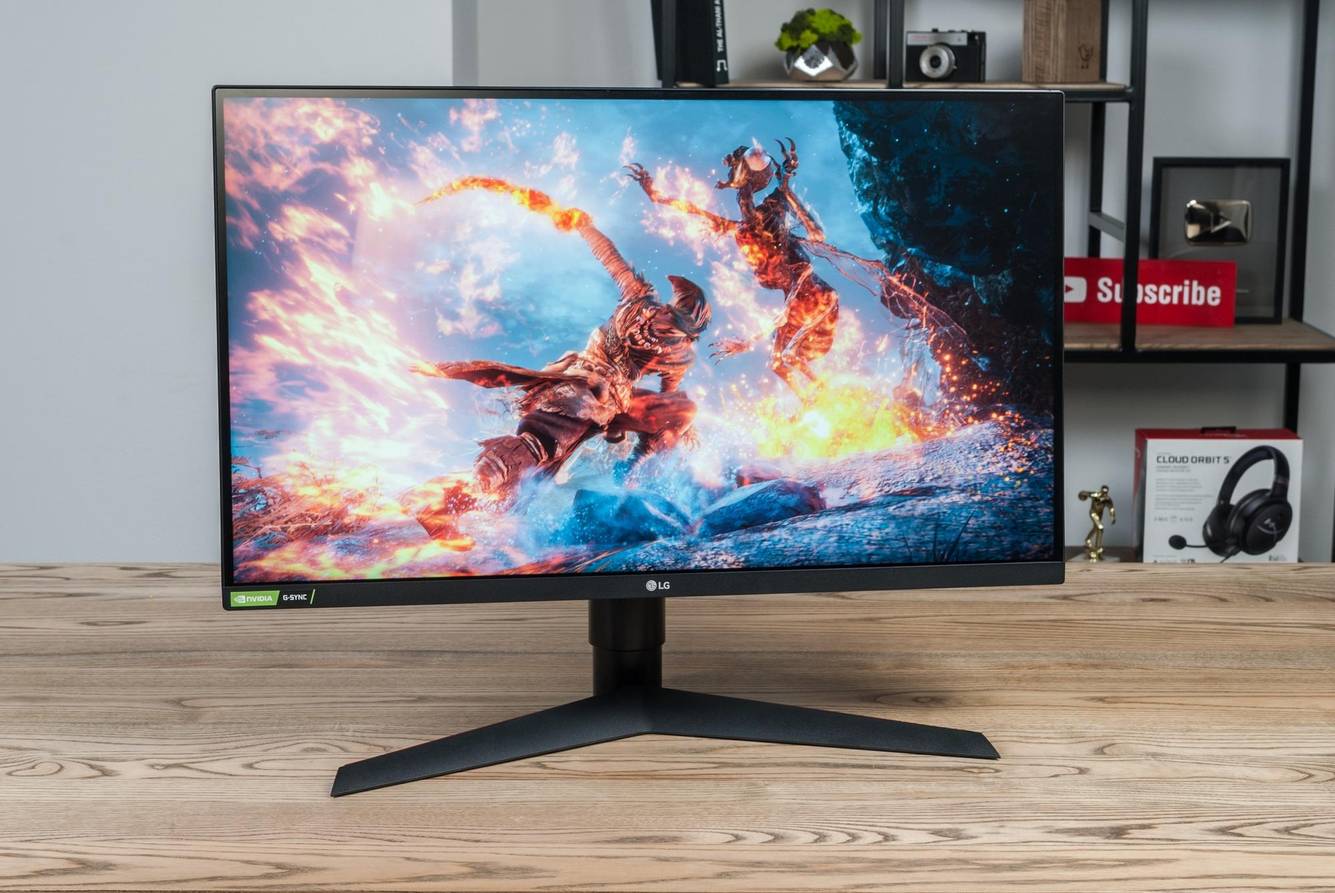monitor: (200, 71, 1075, 799)
